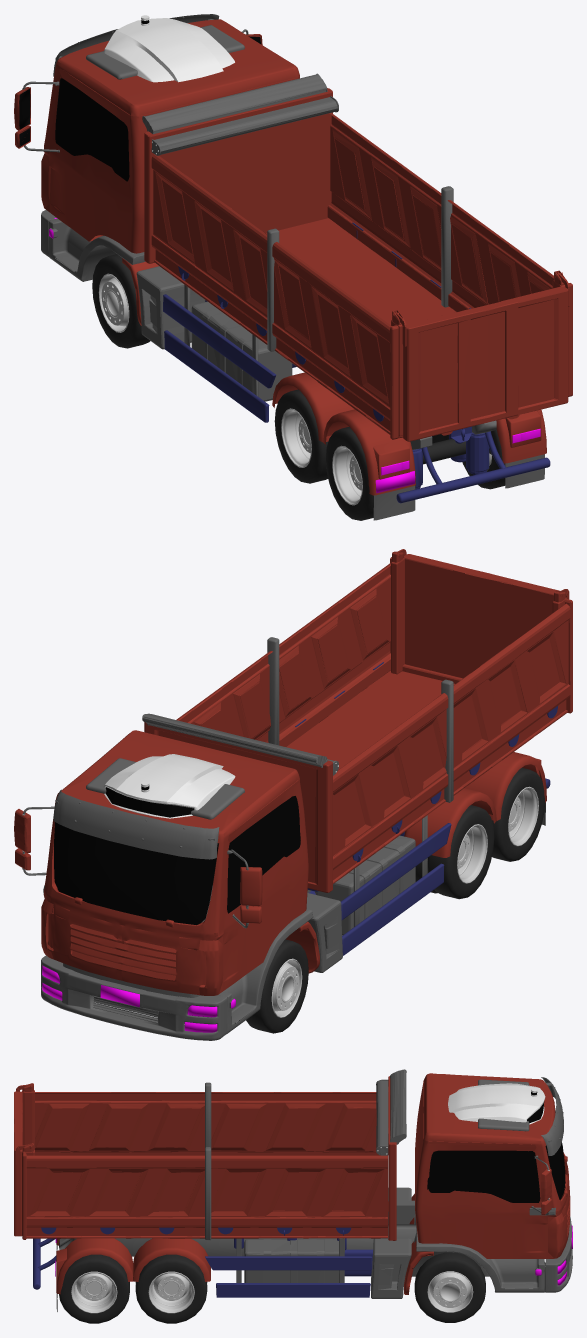
Rendered from maincar_truck.glb.
The picture shows the model from 3 angles, top to bottom: view 1: azimuth 30°, elevation 25°; view 2: azimuth 150°, elevation 25°; view 3: azimuth 270°, elevation 25°; orthographic projection. The views are drawn at different scales.
Parts seen in each view (by area): view 1: truck_car, radar, truck_back, truck_middle, truck_front_left, truck_light; view 2: truck_car, radar, truck_middle, truck_front_left, truck_back, truck_light; view 3: truck_car, truck_front_right, truck_middle, truck_back, radar.
Part boxes in pixels (x1,y1,x2,y2): truck_car: (14,14,572,520); radar: (103,15,234,82); truck_back: (325,427,505,520); truck_middle: (274,389,448,483); truck_front_left: (92,254,150,348); truck_light: (49,218,540,493); truck_car: (14,549,572,1040); radar: (103,754,235,818); truck_middle: (415,805,494,899); truck_front_left: (246,939,308,1033); truck_back: (492,768,544,861); truck_light: (42,965,235,1032); truck_car: (14,1069,572,1311); truck_front_right: (414,1252,485,1322); truck_middle: (135,1254,207,1323); truck_back: (59,1238,129,1323); radar: (448,1083,545,1124).
Bounding box in the file's own units: 4.38 × 4.53 × 11.34.
